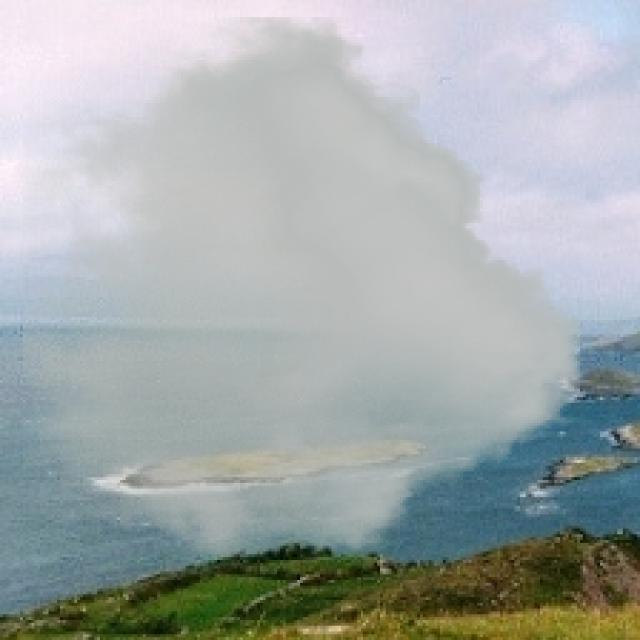Smoke: (23, 17, 583, 560)
